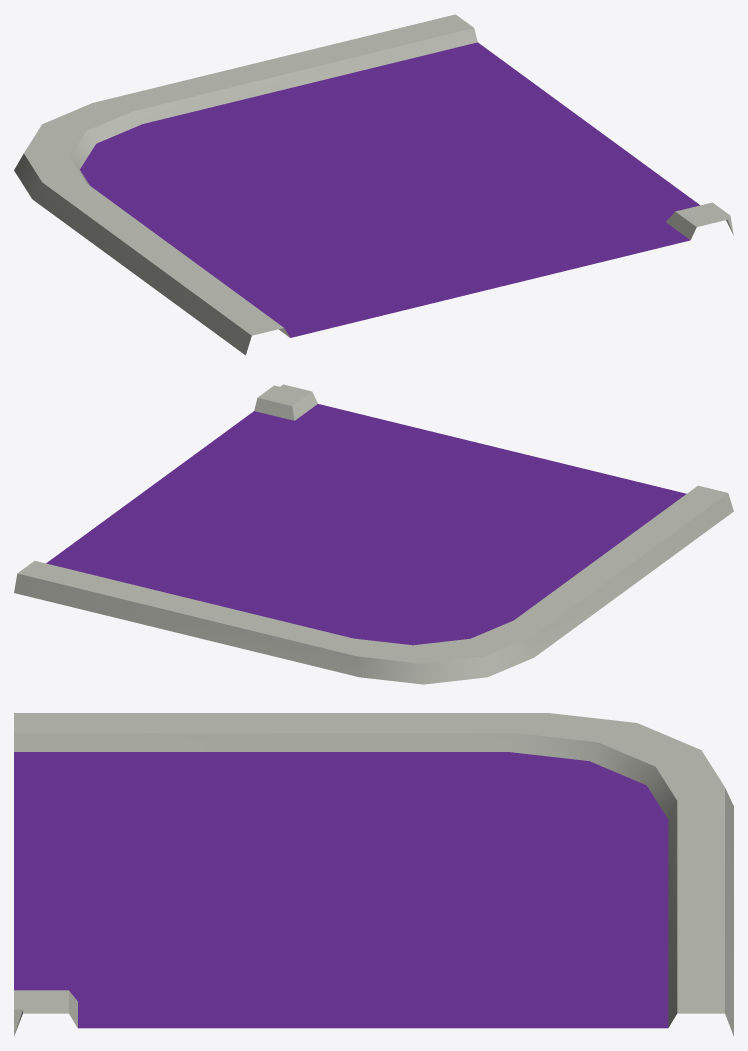
The model's file is ParkRoad_4_A.fbx.
3 renders of one model, top to bottom at view 1: azimuth 30°, elevation 25°; view 2: azimuth 150°, elevation 25°; view 3: azimuth 270°, elevation 25°, orthographic. The views are drawn at different scales.
Visible parts, largest first — view 1: ParkRoad_4_A; view 2: ParkRoad_4_A; view 3: ParkRoad_4_A.
Part boxes in pixels (x1,y1,x2,y2): ParkRoad_4_A: (14, 14, 733, 355); ParkRoad_4_A: (14, 384, 733, 684); ParkRoad_4_A: (14, 713, 733, 1035).
Bounding box in the file's own units: 200 × 7.16 × 200.
